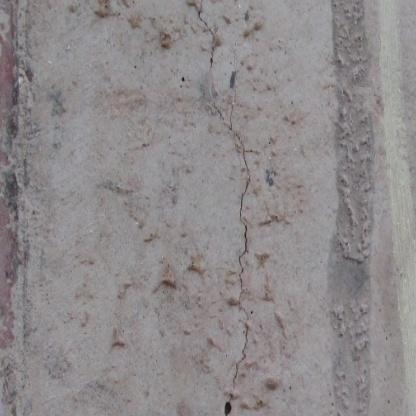Cracks: (210, 90, 255, 392), (196, 0, 220, 76), (221, 396, 237, 416)
